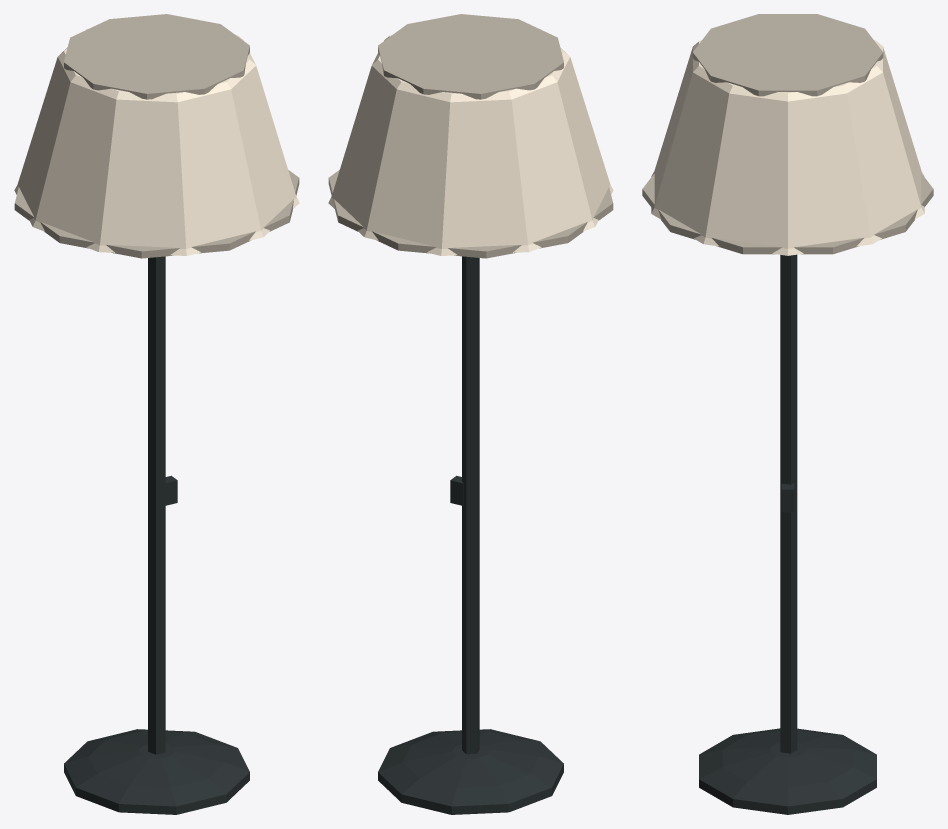
The model's file is floorLamp.glb.
3 renders of one model, left to right at view 1: azimuth 30°, elevation 25°; view 2: azimuth 150°, elevation 25°; view 3: azimuth 270°, elevation 25°, orthographic.
Parts seen in each view (by area): view 1: floorLamp-m; view 2: floorLamp-m; view 3: floorLamp-m.
Boxes of the visible parts, bbox=[...] form: floorLamp-m: bbox=[14, 14, 299, 814]; floorLamp-m: bbox=[328, 14, 613, 814]; floorLamp-m: bbox=[642, 14, 933, 814].
Bounding box in the file's own units: 0.92 × 2.56 × 0.932.
